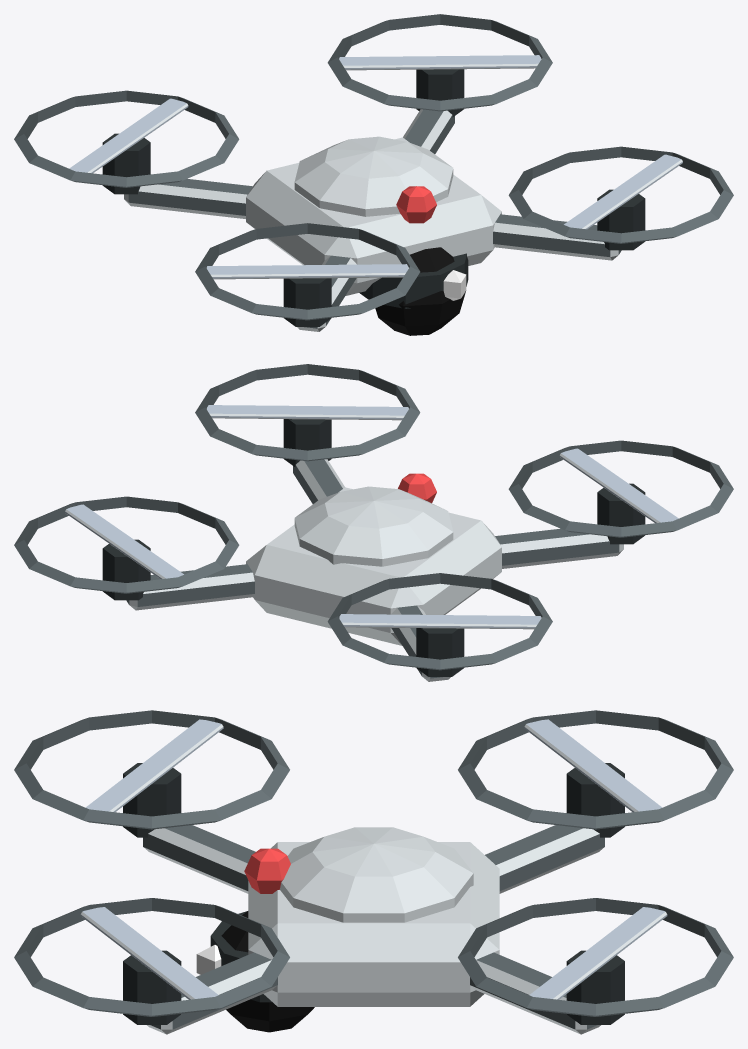
File: drohne.glb
3 views of the same model, one above another, from view 1: azimuth 30°, elevation 25°; view 2: azimuth 150°, elevation 25°; view 3: azimuth 270°, elevation 25° (orthographic). The views are drawn at different scales.
Parts seen in each view (by area): view 1: body-m, lamp-m; view 2: body-m, lamp-m; view 3: body-m, lamp-m.
Boxes of the visible parts, left/top/right/bottom form: body-m: left=14, top=14, right=733, bottom=335; lamp-m: left=396, top=186, right=436, bottom=223; body-m: left=14, top=364, right=733, bottom=681; lamp-m: left=398, top=473, right=436, bottom=503; body-m: left=14, top=710, right=733, bottom=1034; lamp-m: left=244, top=848, right=290, bottom=893.
Bounding box in the file's own units: 1.72 × 0.4825 × 1.72.
